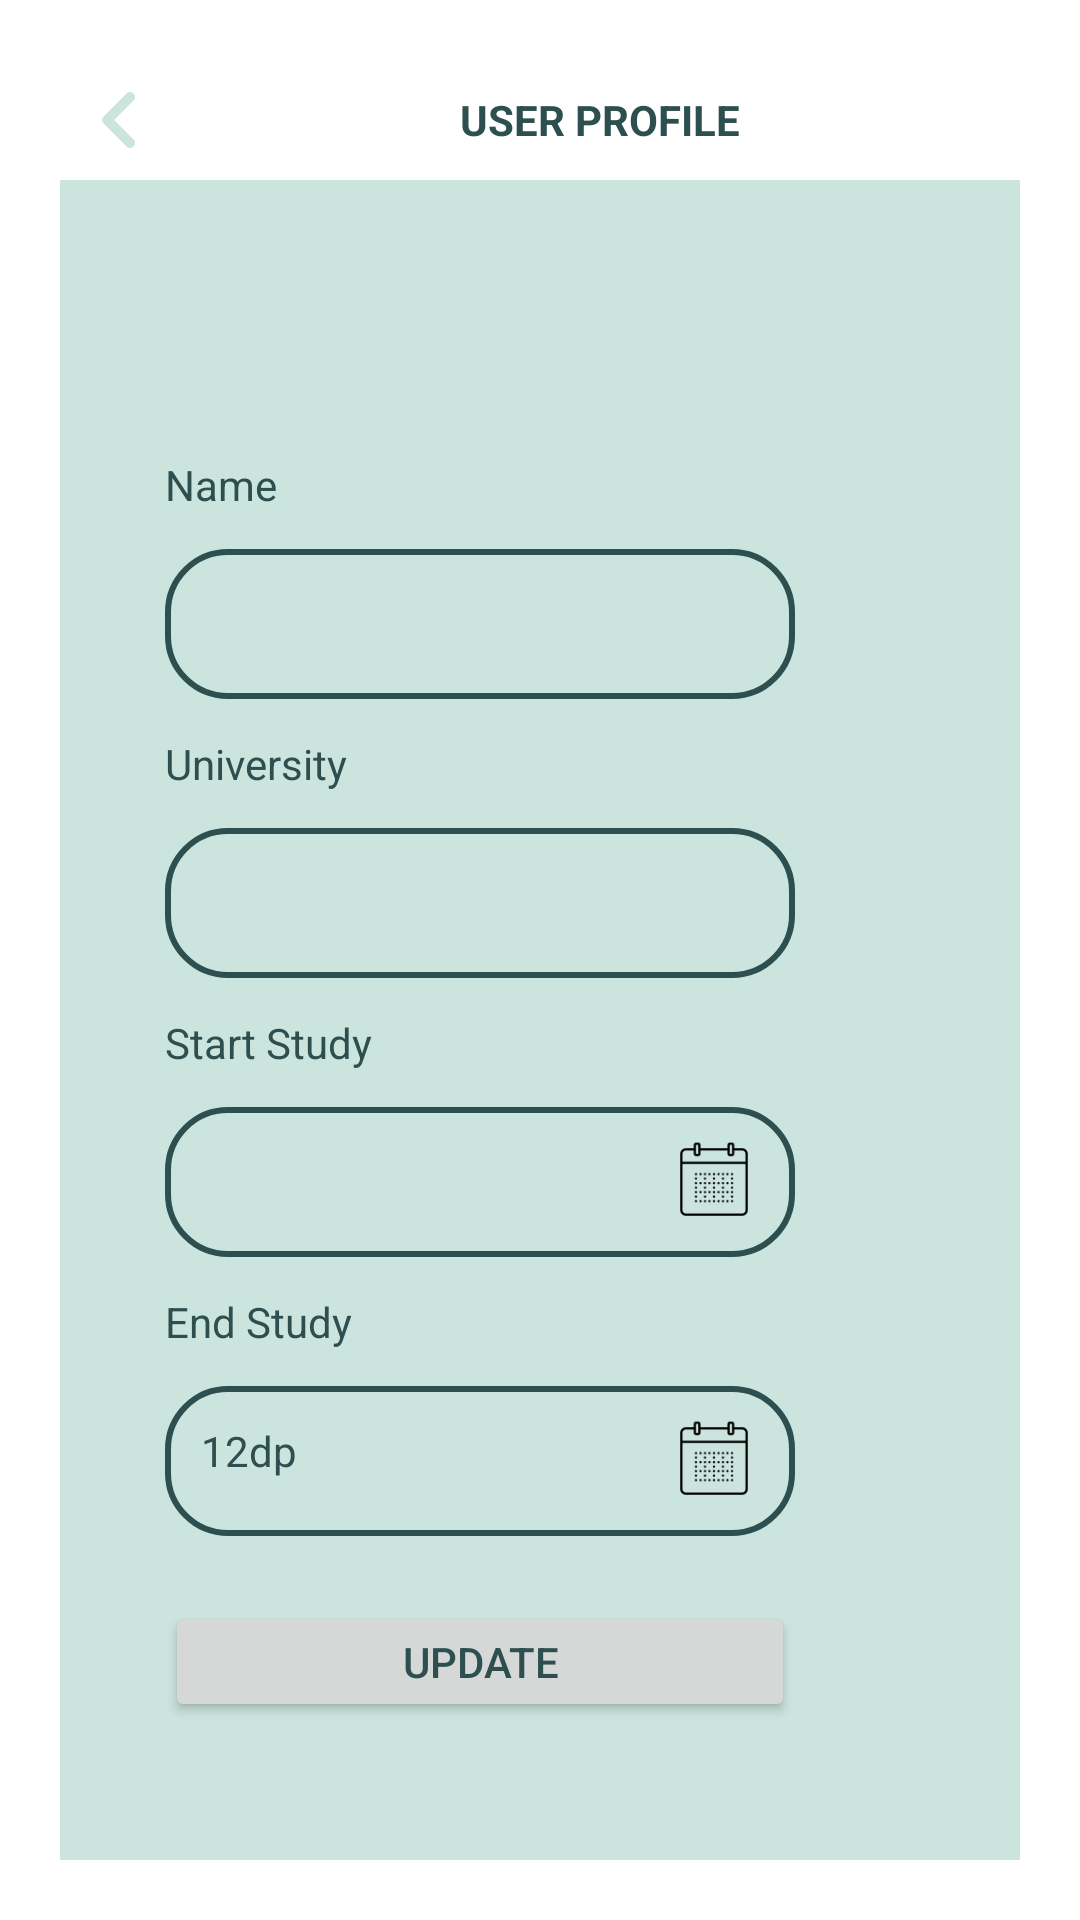

Icons on this 1080px x 1920px Android screen, each with its box as (x1, y1, x2, y2):
keyboard backspace: (102, 92, 135, 148)
